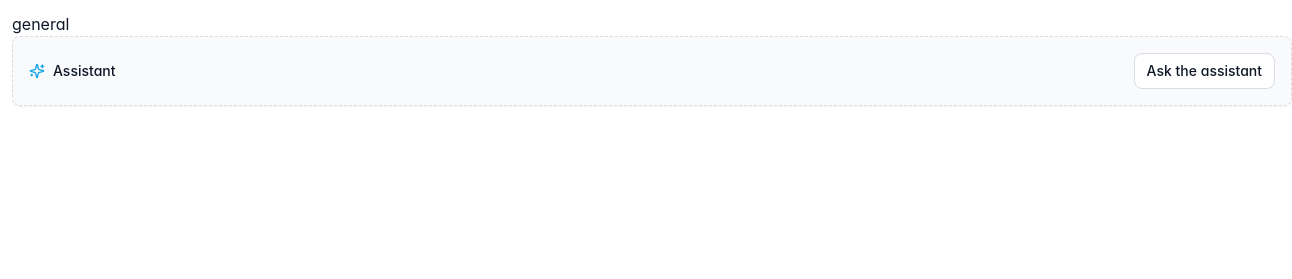
Scenario: AscAssistantPanel — resume / no-re-ask (Slice 3) › after a field is confirmed, the next turn's nextQuestion for the same field is dropped
Click the button with test id "asc-assistant-ask-1" at (1204, 71), box [1134, 53, 1275, 89]
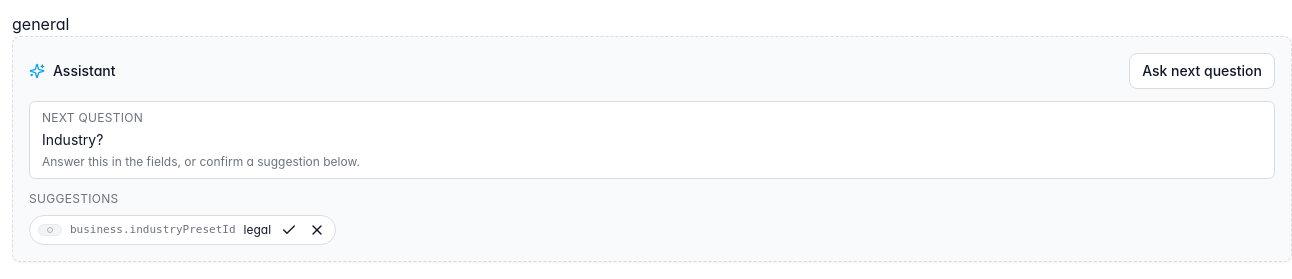
Expected: the list item with test id "^asc-assistant-proposal-prop-" is shown, [29, 215, 336, 245]
Click the button with test id "^asc-assistant-confirm-prop-" at (289, 230), box [279, 220, 299, 240]
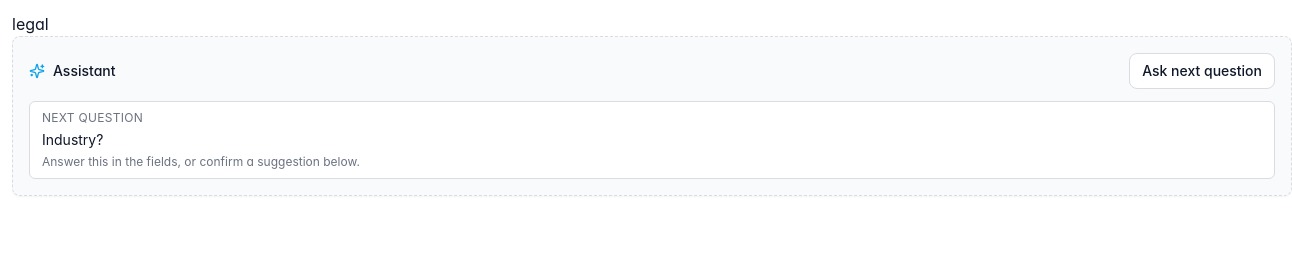
Expected: the text with test id "industry-value" reads "legal", [12, 14, 49, 34]
Click the button with test id "asc-assistant-ask-1" at (1202, 71), box [1129, 53, 1275, 89]
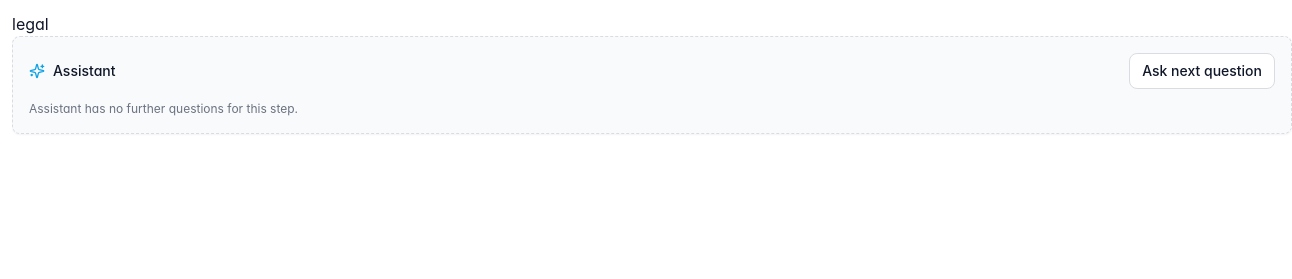
Expected: the element with test id "asc-assistant-question-1" is gone
